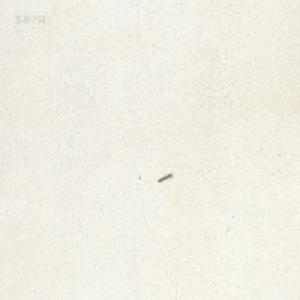Bolt: (157, 170, 171, 182)
